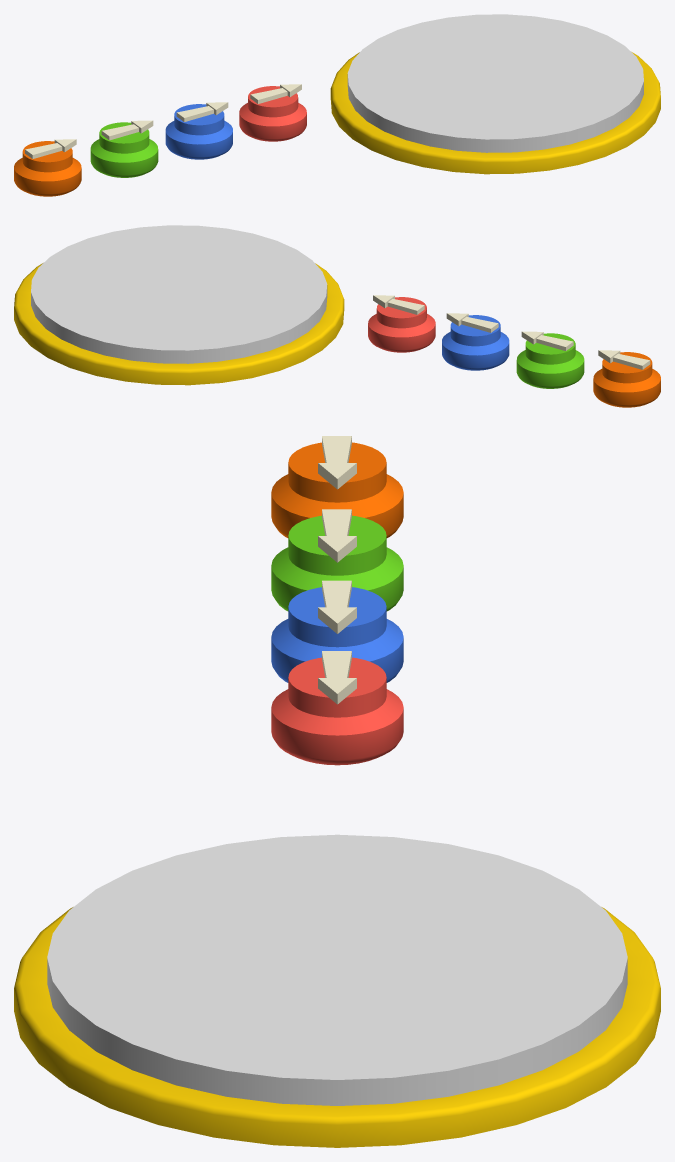
File: Fight for land.fbx
The picture shows the model from 3 angles, top to bottom: view 1: azimuth 30°, elevation 25°; view 2: azimuth 150°, elevation 25°; view 3: azimuth 270°, elevation 25°; orthographic projection. The views are drawn at different scales.
Parts seen in each view (by area): view 1: Arena, Disk, Player_Green, Player_Blue, Player_Orange, Player_Red; view 2: Arena, Disk, Player_Green, Player_Blue, Player_Orange, Player_Red; view 3: Arena, Disk, Player_Red, Player_Orange, Player_Green, Player_Blue.
Part boxes in pixels (left/top/right/bottom): Arena: left=347, top=14, right=643, bottom=152; Disk: left=330, top=52, right=660, bottom=174; Player_Green: left=90, top=120, right=158, bottom=177; Player_Blue: left=165, top=102, right=232, bottom=159; Player_Orange: left=14, top=139, right=81, bottom=196; Player_Red: left=239, top=84, right=306, bottom=141; Arena: left=31, top=225, right=327, bottom=363; Disk: left=14, top=263, right=344, bottom=385; Player_Green: left=516, top=331, right=584, bottom=388; Player_Blue: left=442, top=313, right=509, bottom=370; Player_Orange: left=593, top=350, right=660, bottom=407; Player_Red: left=368, top=295, right=435, bottom=352; Arena: left=47, top=834, right=627, bottom=1105; Disk: left=14, top=907, right=660, bottom=1147; Player_Red: left=271, top=651, right=403, bottom=765; Player_Orange: left=271, top=436, right=403, bottom=537; Player_Green: left=271, top=509, right=403, bottom=611; Player_Blue: left=271, top=580, right=403, bottom=682.
Size of the model in its own units: 483 by 50.21 by 223.
1 material, 1 textured.
